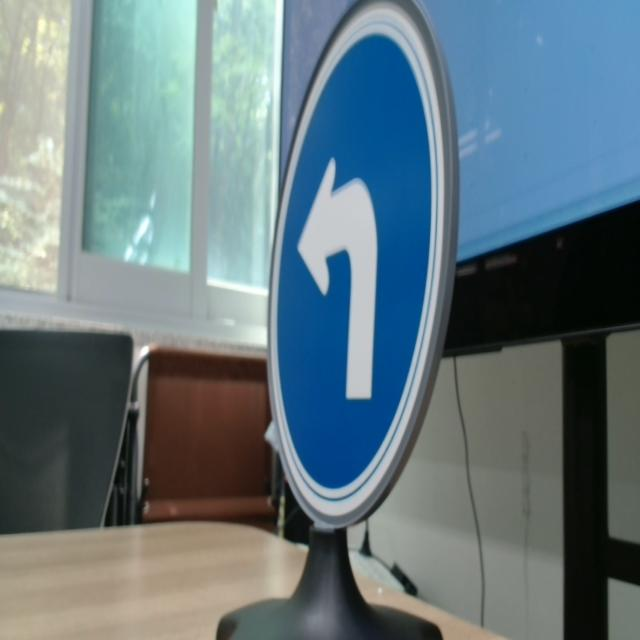left_direction: (253, 1, 462, 534)
